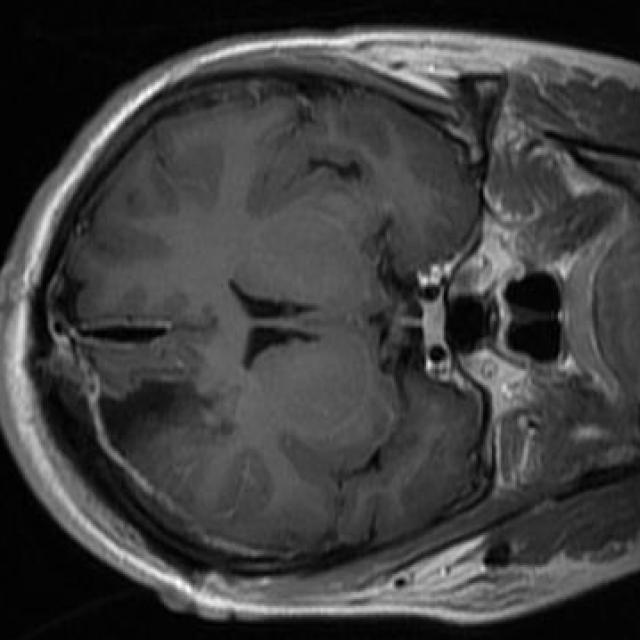glioma: (98, 371, 212, 458)
